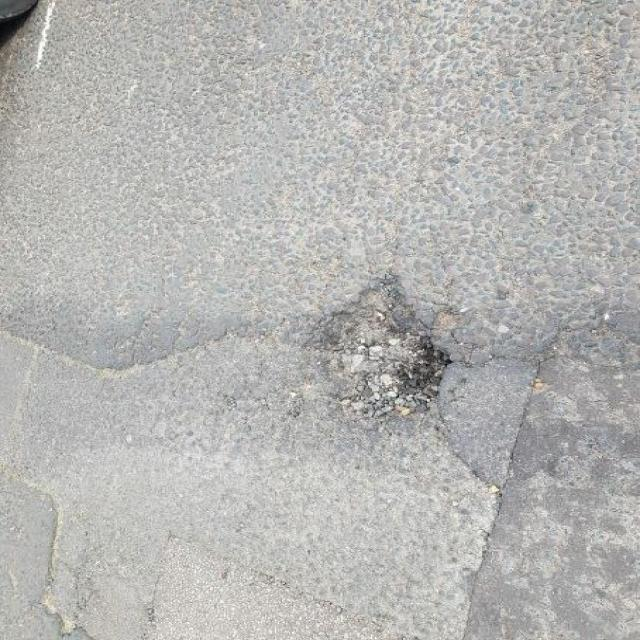pothole: (303, 263, 464, 433)
